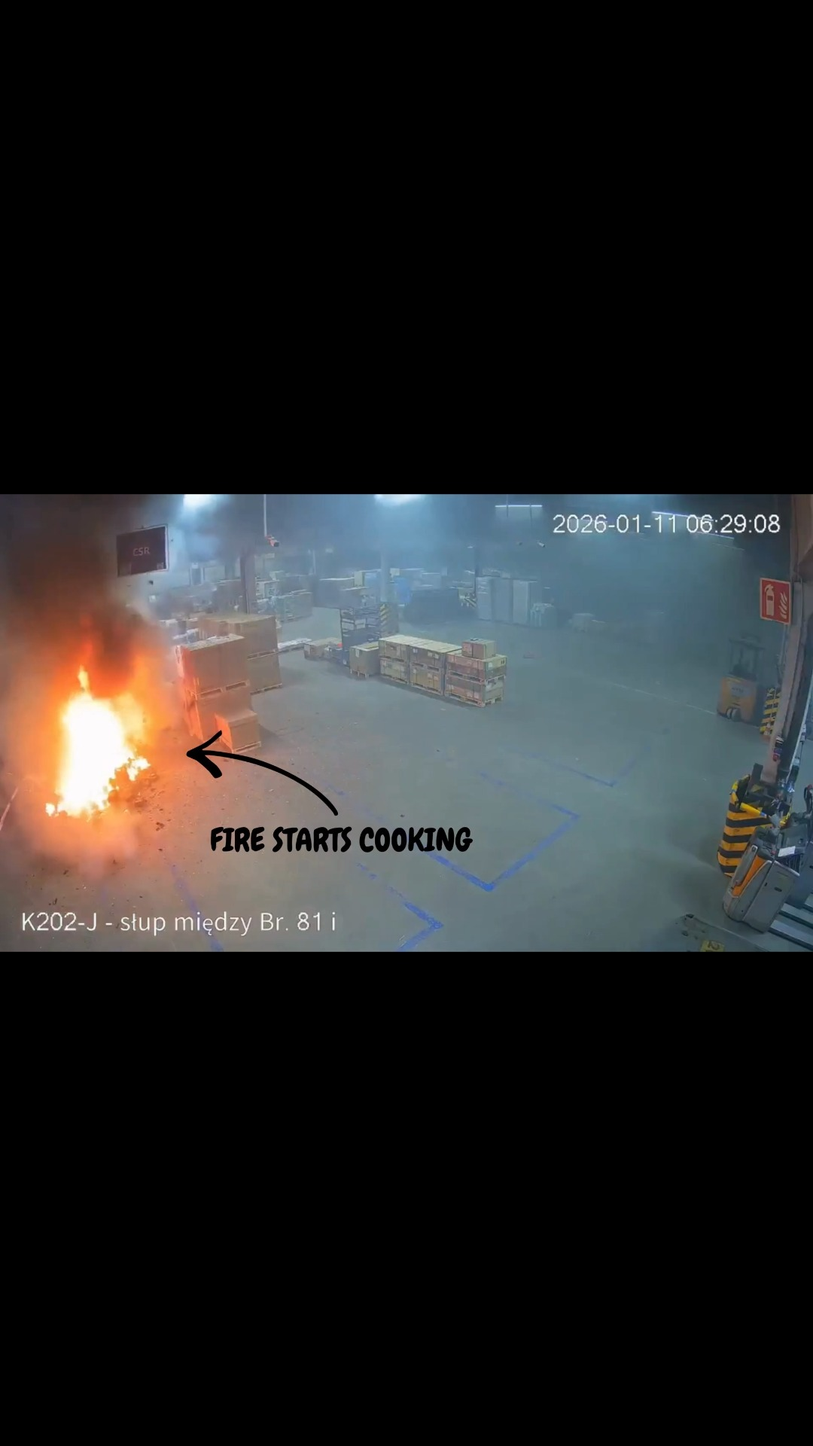fire: (30, 660, 181, 868)
